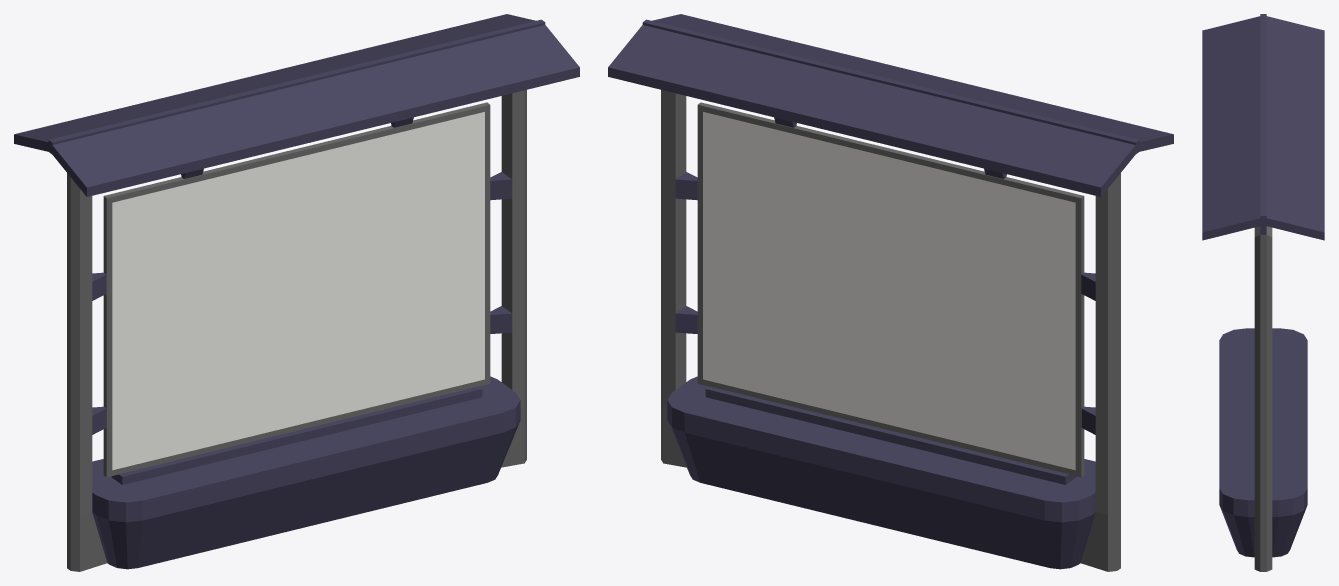
The model's file is Tori_Opaste.fbx.
3 renders of one model, left to right at view 1: azimuth 30°, elevation 25°; view 2: azimuth 150°, elevation 25°; view 3: azimuth 270°, elevation 25°, orthographic. The views are drawn at different scales.
Visible parts, largest first — view 1: Cube; view 2: Cube; view 3: Cube.
Part boxes in pixels (x1=…): Cube: x1=14, y1=14, x2=579, y2=571; Cube: x1=608, y1=14, x2=1173, y2=571; Cube: x1=1202, y1=14, x2=1324, y2=571.
Size of the model in its own units: 349 by 292 by 89.19.
